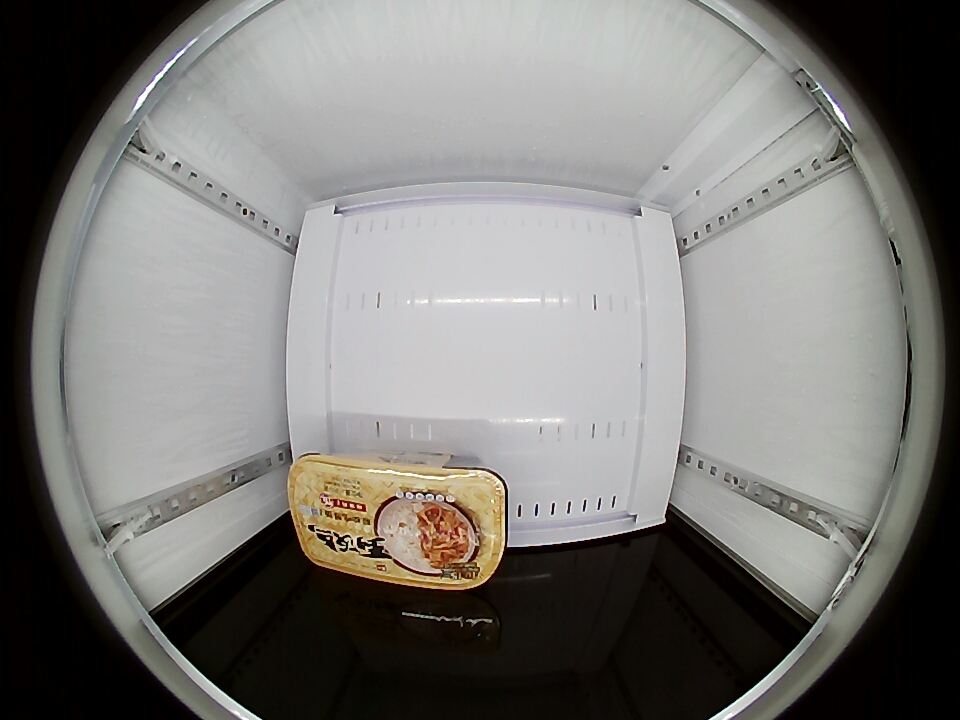daofandian4: (287, 452, 509, 591)
